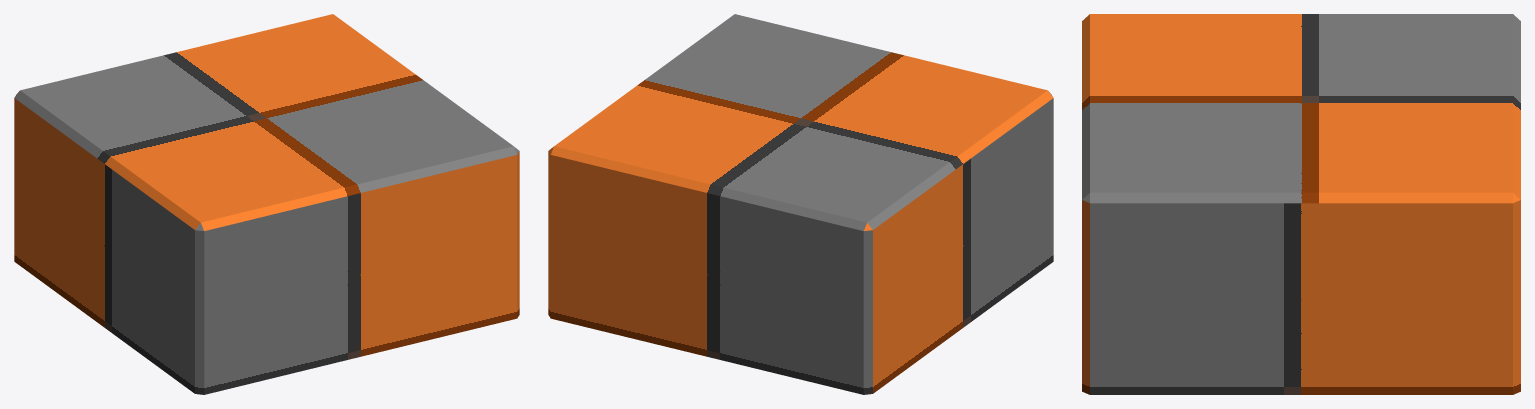
Rendered from wall.obj.
3 views of the same model, side by side, from view 1: azimuth 30°, elevation 25°; view 2: azimuth 150°, elevation 25°; view 3: azimuth 270°, elevation 25° (orthographic). The views are drawn at different scales.
Parts seen in each view (by area): view 1: Wall_Wall_mesh; view 2: Wall_Wall_mesh; view 3: Wall_Wall_mesh.
Part boxes in pixels (box(x1,y1,x2,y2)): Wall_Wall_mesh: box(14, 14, 519, 394); Wall_Wall_mesh: box(548, 14, 1053, 394); Wall_Wall_mesh: box(1082, 14, 1520, 394).
Bounding box in the file's own units: 1 × 0.5 × 1.
